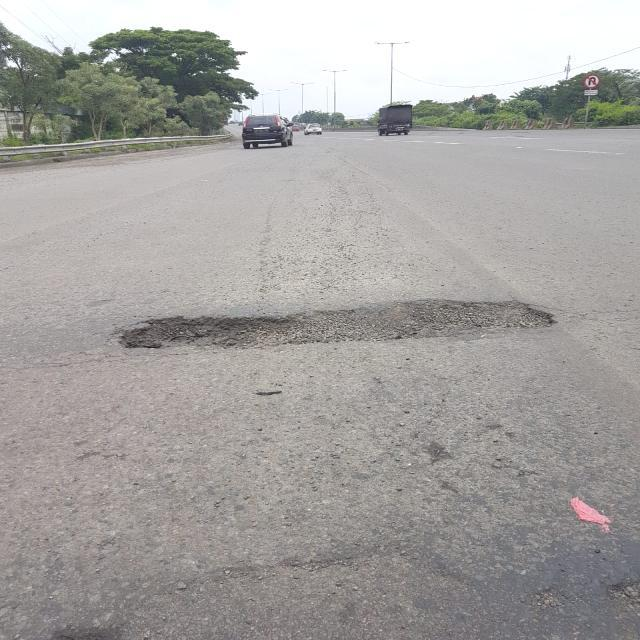Buraco: (115, 294, 561, 354)
